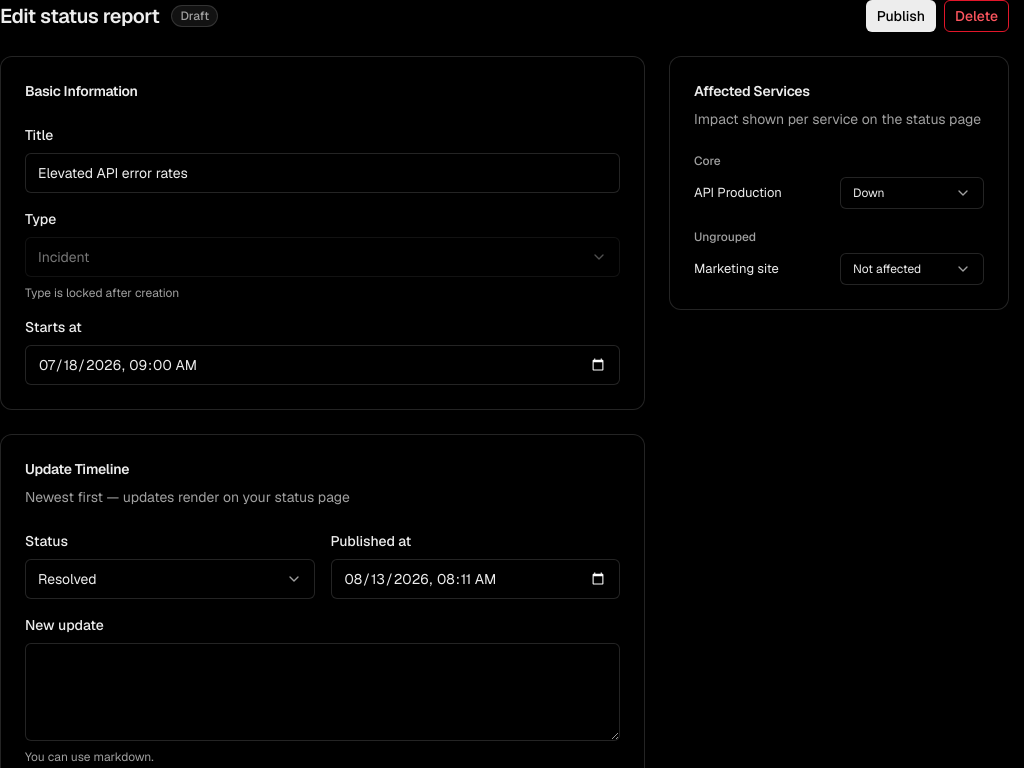
Test: ReportEditor unsaved-changes protection › opens the discard dialog exactly once on a click for a link outside the editor (e.g. TopNav) while dirty
The image size is (1024, 768).
Type "Retitled report" into the field labelled "Title" at (322,173), box [25,153,620,193]
(page scrolled)
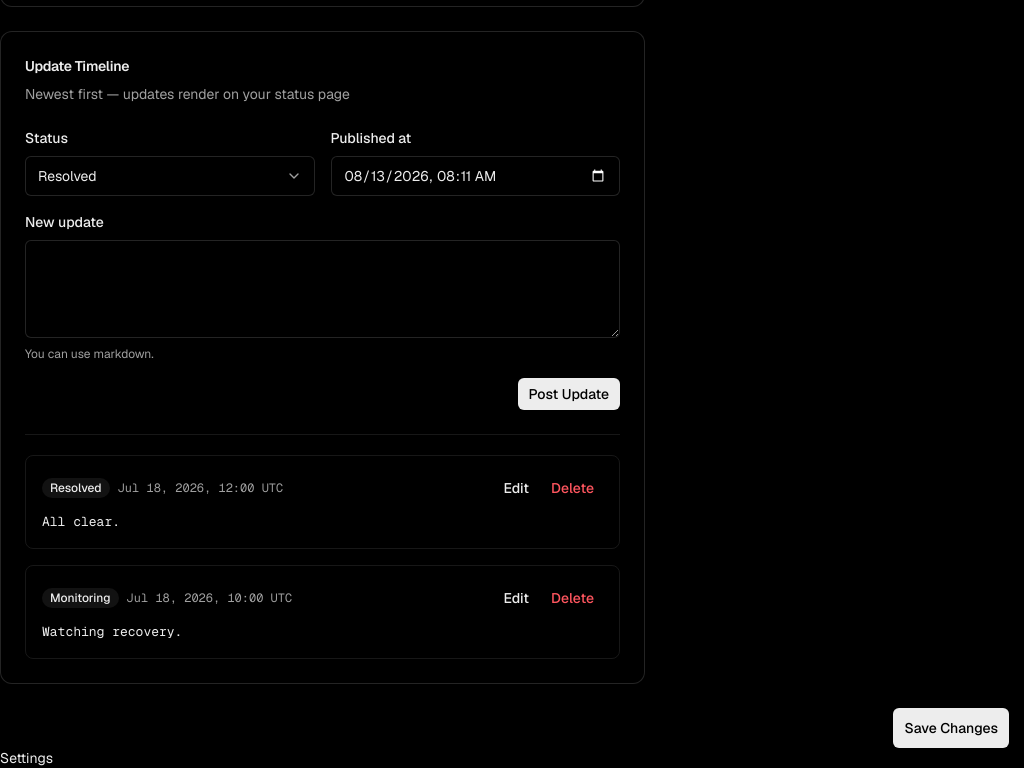
Click the link "Settings" at (26,758), box [0,749,53,767]
(page scrolled)
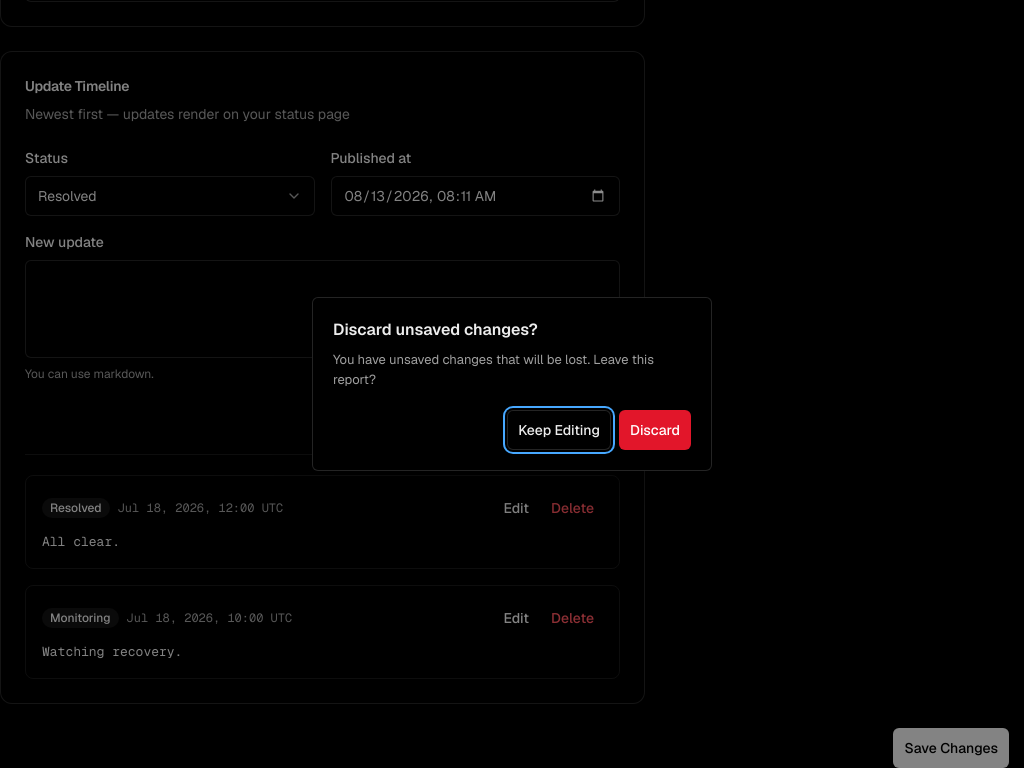
Expected: the number of dialogs is 1, [312,297,712,471]
